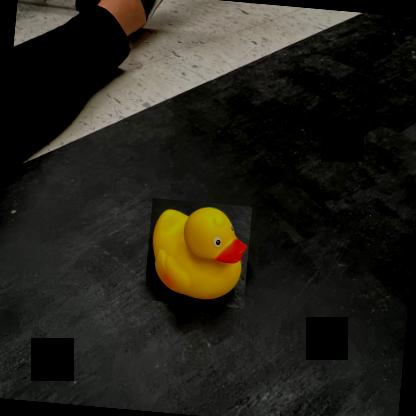duck: (144, 198, 252, 309)
